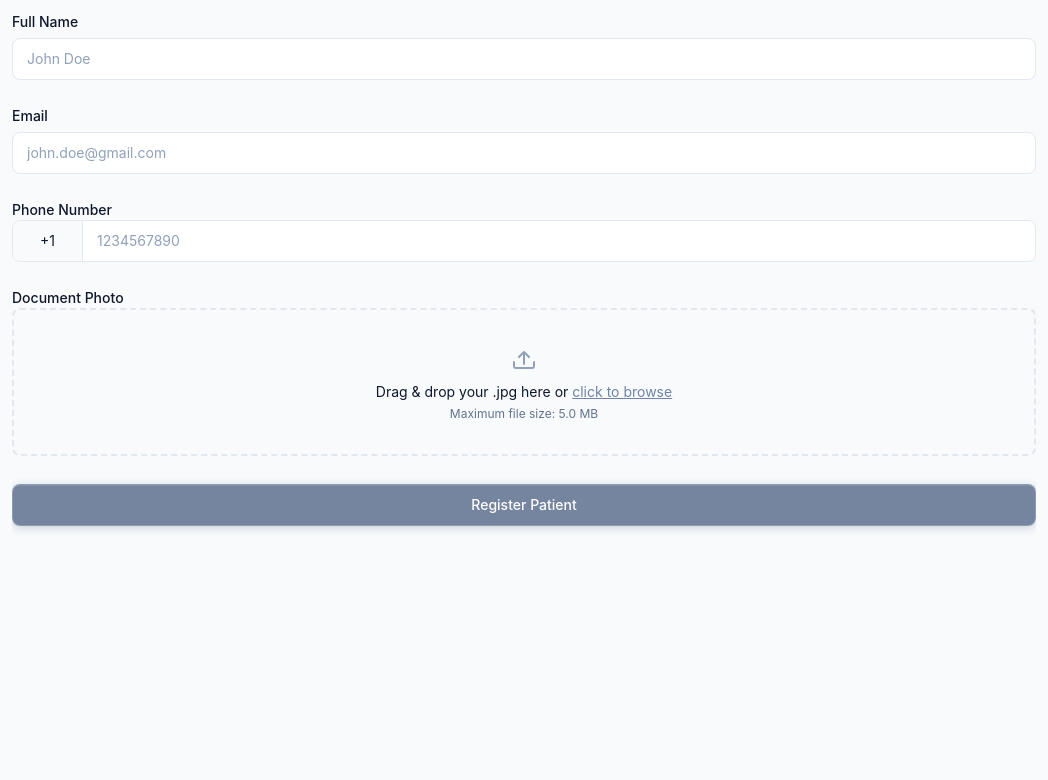
Scenario: PatientForm › validates email must be @gmail.com
In the field with placeholder "john.doe@gmail.com": (524,153) [12,132,1036,174], type "test@yahoo.com"
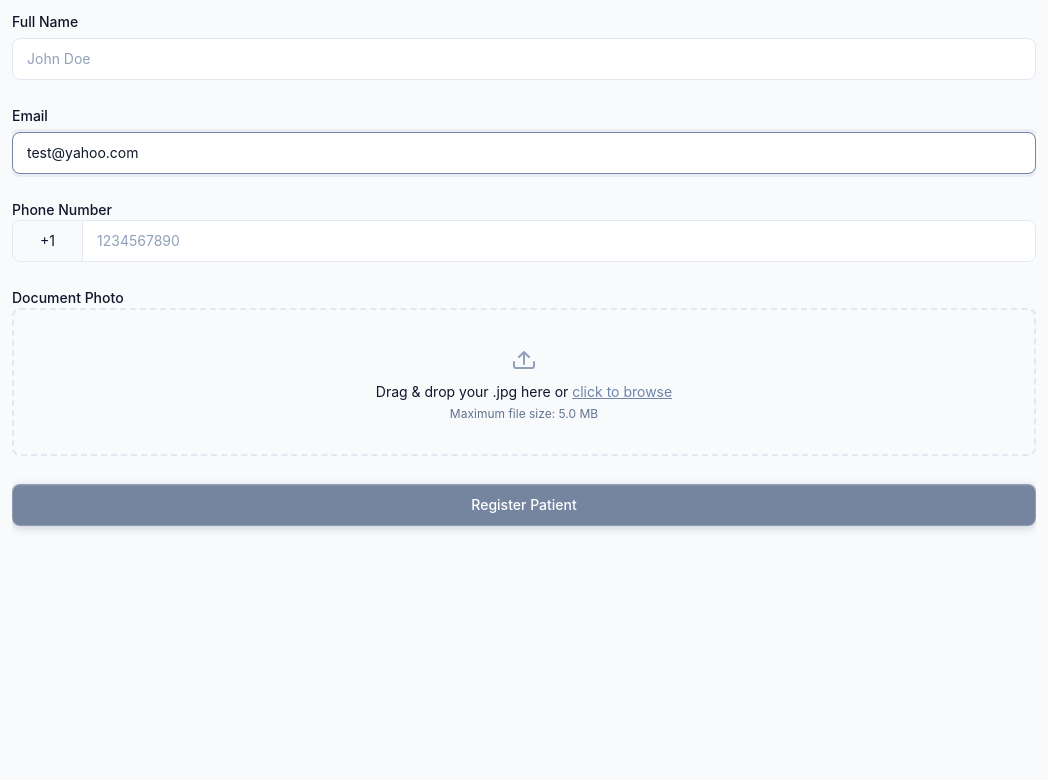
Click the button "Register Patient": (524,505) [12,484,1036,526]
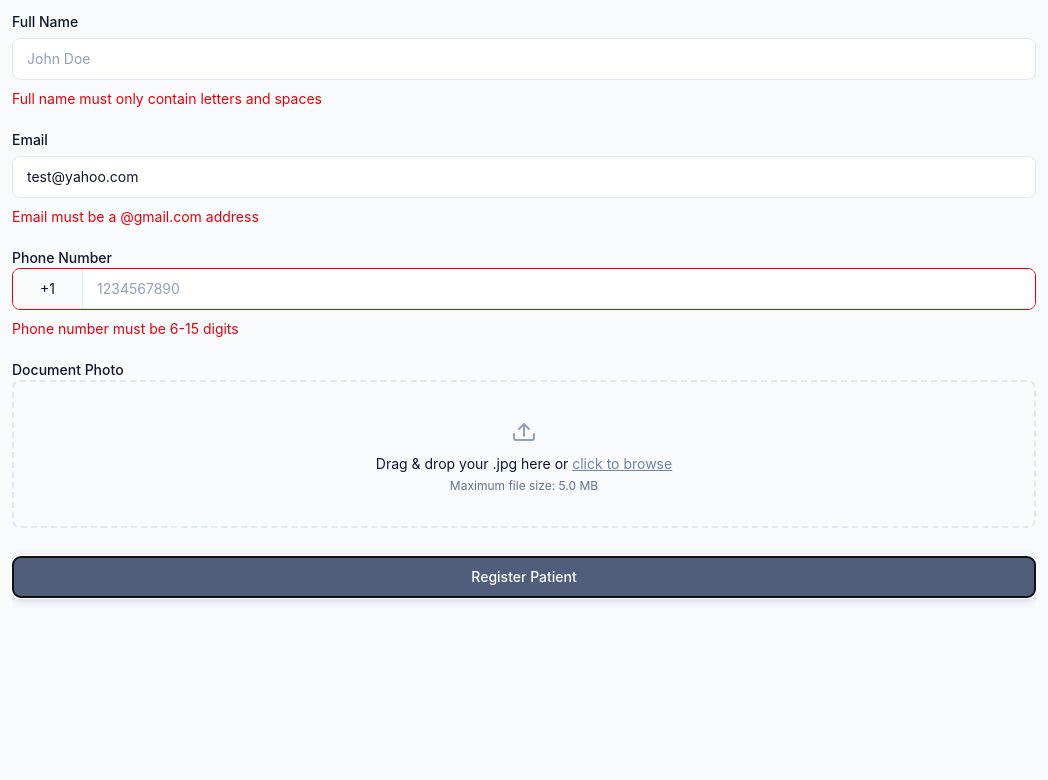
Expected: the text "Email must be a @gmail.com address" is shown, [12,208,259,225]
